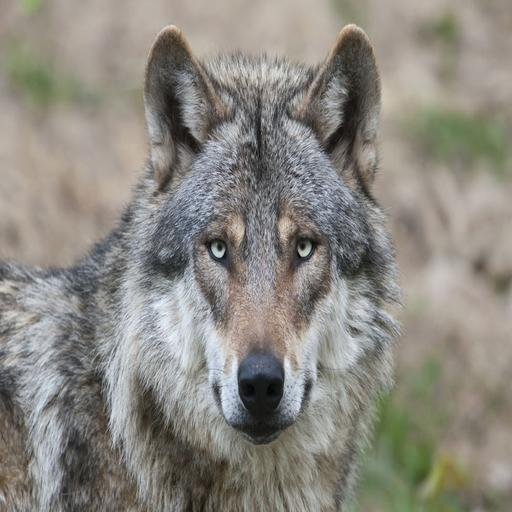Wolf: (0, 20, 403, 512)
